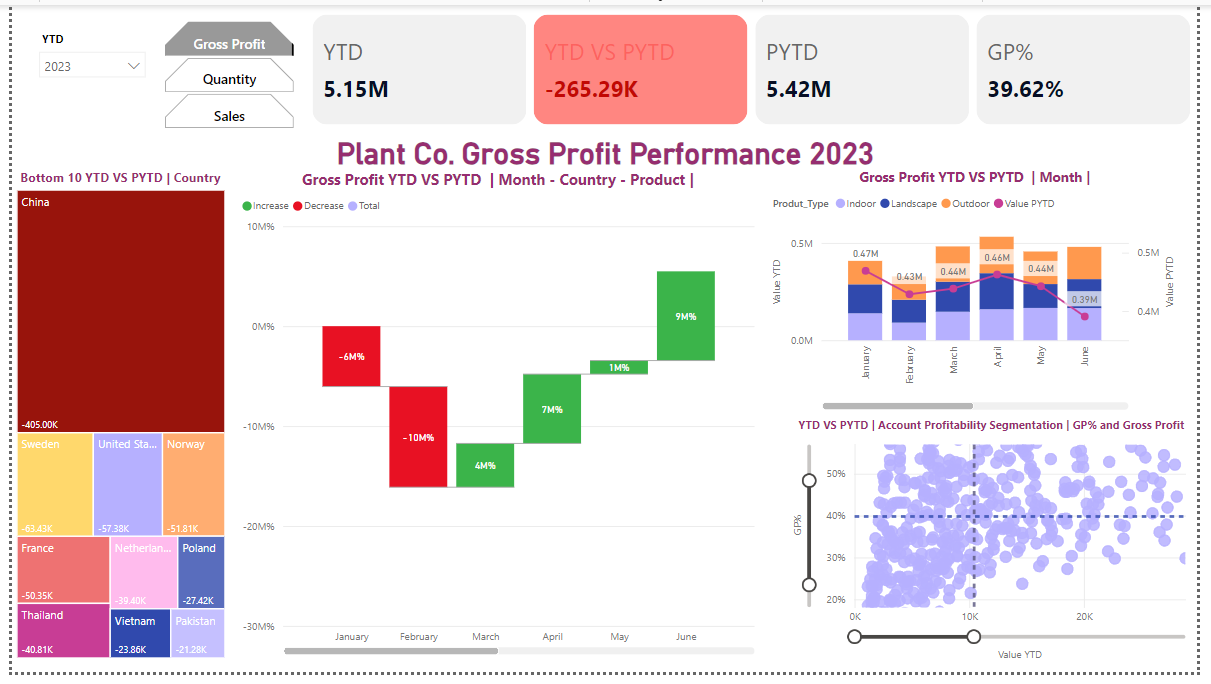

The page's visual inventory and layout, read from the dashboard file:
{"tool":"powerbi","page":{"name":"Performance Report Plant Co.","canvas":[1280,720],"ordinal":1},"visuals":[{"type":"advancedSlicerVisual","fields":{"Values":["Slc_Values.Values"]},"box":[165.2,17.8,139.3,116.6],"z":0},{"type":"slicer","title":"YTD","fields":{"Values":["Dim_Date.Date.Variation.Date Hierarchy.Year"]},"box":[19.4,22.7,134.4,111.7],"z":1000},{"type":"treemap","title":"Bottom 10 YTD VS PYTD | Country","fields":{"Group":["Dim_Account.country"],"Values":["_Measures.YTD VS PYTD"]},"box":[0,175.7,234.3,532.9],"z":2000},{"type":"waterfallChart","fields":{"Y":["_Measures.YTD VS PYTD"],"Category":["Dim_Date.Date.Variation.Date Hierarchy.Month","Dim_Account.country","Dim_Product.Produt_Type","Dim_Product.Product_Name"]},"box":[242.9,176.5,563.5,529.5],"z":3000},{"type":"lineStackedColumnComboChart","fields":{"Y":["_Measures.S_YTD"],"Y2":["_Measures.S_PYTD"],"Category":["Dim_Date.Date.Variation.Date Hierarchy.Quarter","Dim_Date.Date.Variation.Date Hierarchy.Month"],"Series":["Dim_Product.Produt_Type"]},"box":[816.7,175,446.7,266.7],"z":4000},{"type":"cardVisual","fields":{"Data":["_Measures.S_YTD","_Measures.YTD VS PYTD","_Measures.S_PYTD","_Measures.GP%"]},"box":[319,4.9,961.8,129.5],"z":5000},{"type":"scatterChart","fields":{"Y":["_Measures.GP%"],"X":["_Measures.S_YTD"],"Category":["Dim_Account.Account"]},"box":[833.3,445,446.7,263.3],"z":6000},{"type":"card","fields":{"Values":["_Measures._Report Title"]},"box":[0,134.4,1280.8,45.3],"z":7000}]}

Visuals, with their boxes in screenshot pixels (x1, y1, x2, y2), scaled from the page's 1280x720 canvas onto the 1211x684 screenshot:
advancedSlicerVisual - Slc_Values.Values: crop(156, 17, 288, 128)
"YTD" slicer: crop(18, 22, 146, 128)
"Bottom 10 YTD VS PYTD | Country" treemap: crop(0, 167, 222, 673)
waterfallChart - _Measures.YTD VS PYTD x Dim_Date.Date.Variation.Date Hierarchy.Month: crop(230, 168, 763, 671)
lineStackedColumnComboChart - _Measures.S_YTD x _Measures.S_PYTD: crop(773, 166, 1195, 420)
cardVisual - _Measures.S_YTD x _Measures.YTD VS PYTD: crop(302, 5, 1210, 128)
scatterChart - _Measures.GP% x _Measures.S_YTD: crop(788, 423, 1210, 673)
card - _Measures._Report Title: crop(0, 128, 1210, 171)
